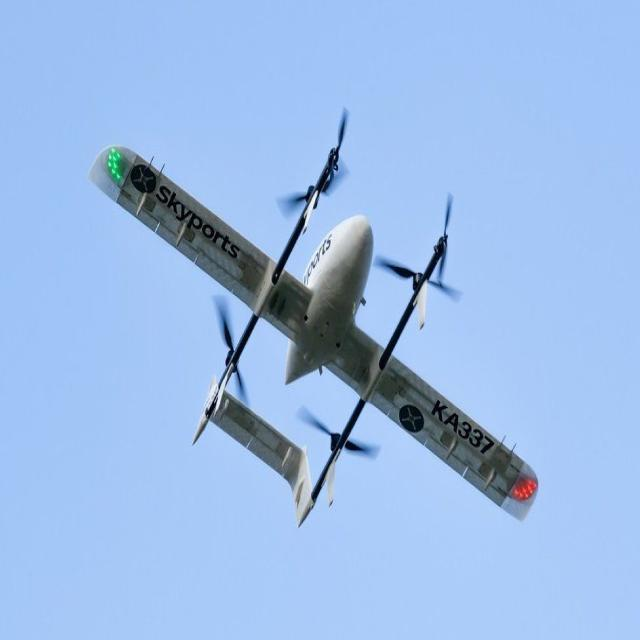iha: (87, 102, 541, 568)
